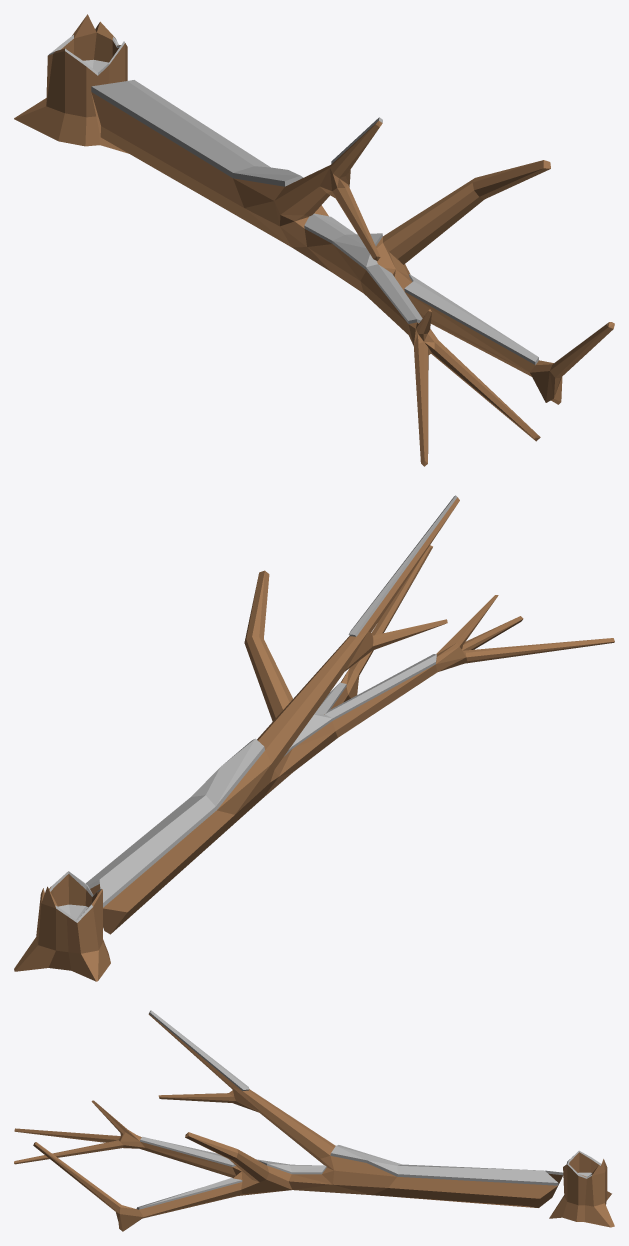
Rendered from Tree_3 Broken Winter.fbx.
The picture shows the model from 3 angles, top to bottom: view 1: azimuth 30°, elevation 25°; view 2: azimuth 150°, elevation 25°; view 3: azimuth 270°, elevation 25°; orthographic projection. The views are drawn at different scales.
Parts seen in each view (by area): view 1: Tree3BrokenWinter_mesh; view 2: Tree3BrokenWinter_mesh; view 3: Tree3BrokenWinter_mesh.
Part boxes in pixels (x1,y1,x2,y2): Tree3BrokenWinter_mesh: (14, 14, 614, 466); Tree3BrokenWinter_mesh: (14, 495, 614, 981); Tree3BrokenWinter_mesh: (14, 1010, 614, 1231).
Size of the model in its own units: 231 by 248 by 746.
